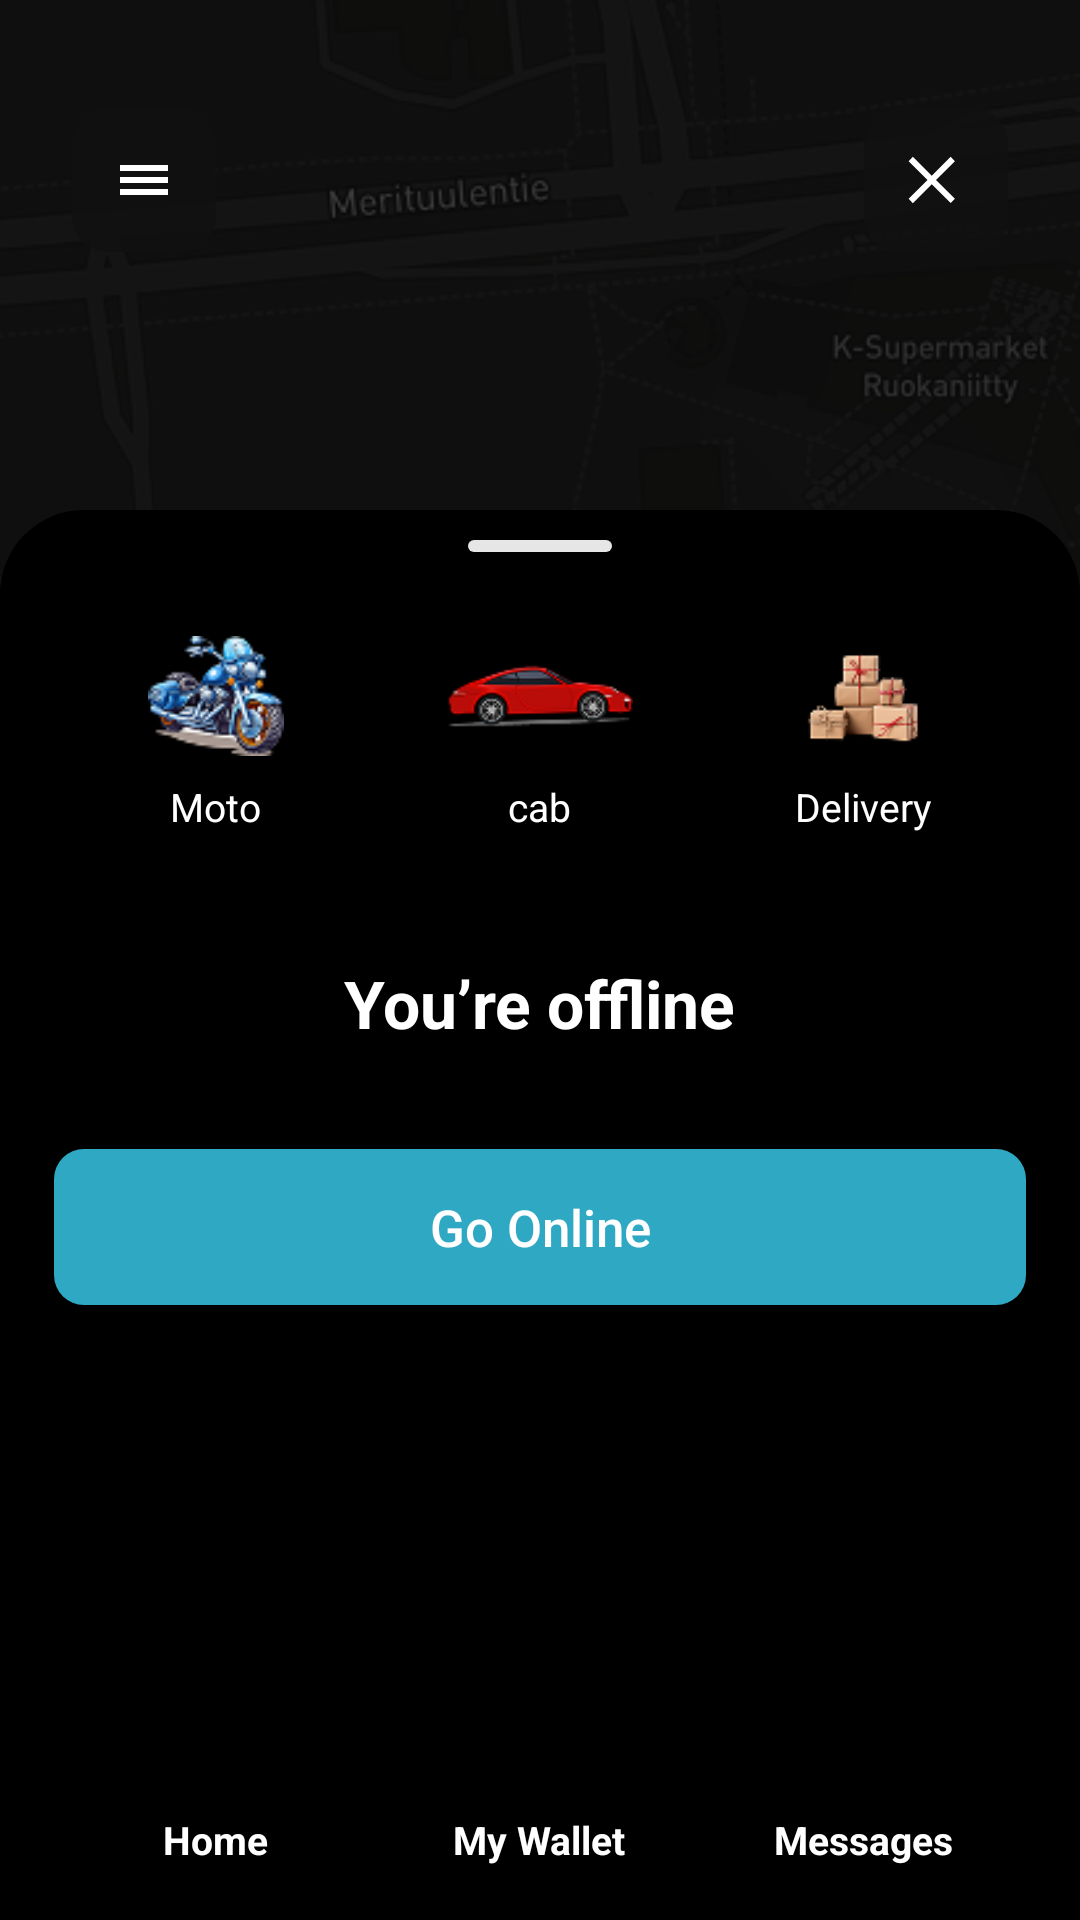

Icons on this 1080*1920 Android screen, each with its box as (x1, y1, x2, y2):
Close: (908, 157, 955, 203)
Menu: (120, 165, 168, 195)
